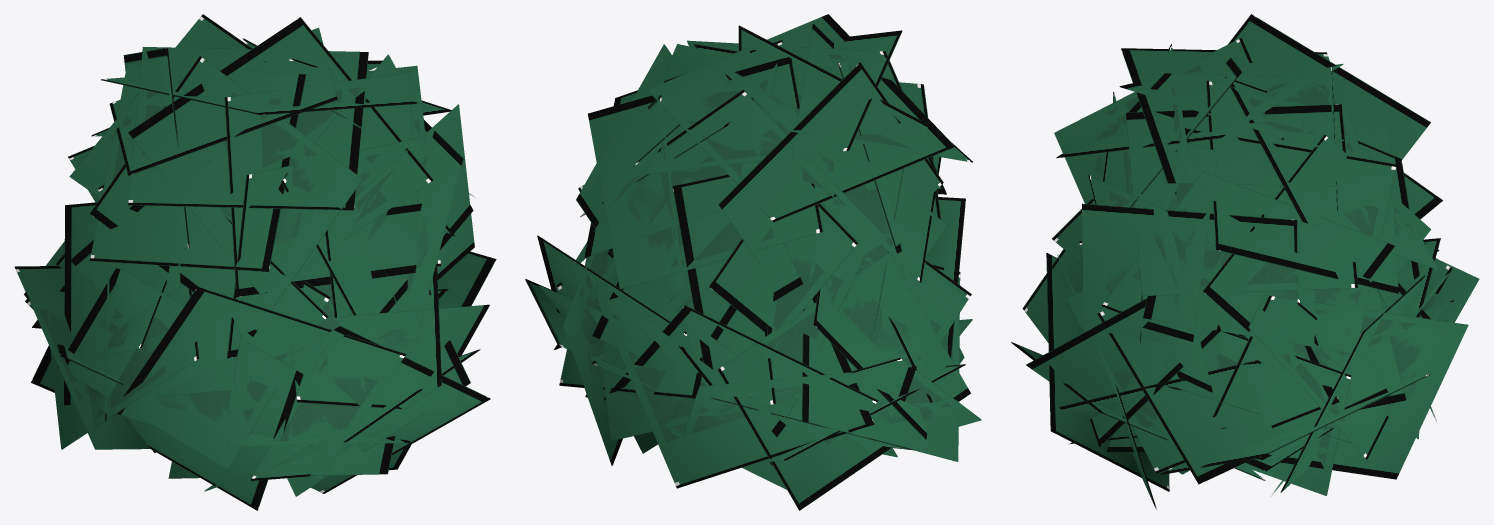
File: Hugo_Trees1.fbx
The picture shows the model from 3 angles, left to right: view 1: azimuth 30°, elevation 25°; view 2: azimuth 150°, elevation 25°; view 3: azimuth 270°, elevation 25°; orthographic projection. The views are drawn at different scales.
Visible parts, largest first — view 1: Tree1; view 2: Tree1; view 3: Tree1.
Part boxes in pixels (<box>): Tree1: <box>14,14,496,510</box>; Tree1: <box>525,14,981,510</box>; Tree1: <box>1011,14,1479,509</box>.
Bounding box in the file's own units: 253 × 243 × 242.
